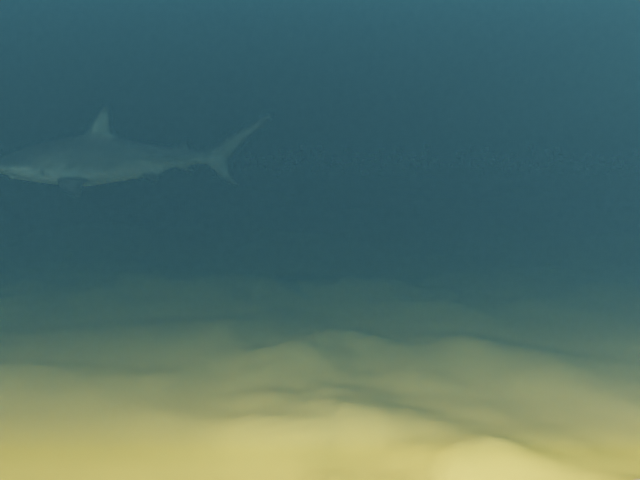Carribean Shark.001: (0, 106, 271, 197)
